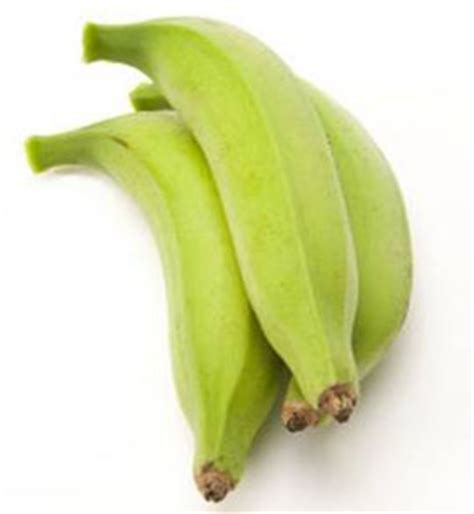banana: (134, 14, 367, 428), (87, 107, 294, 503), (275, 71, 416, 424)
